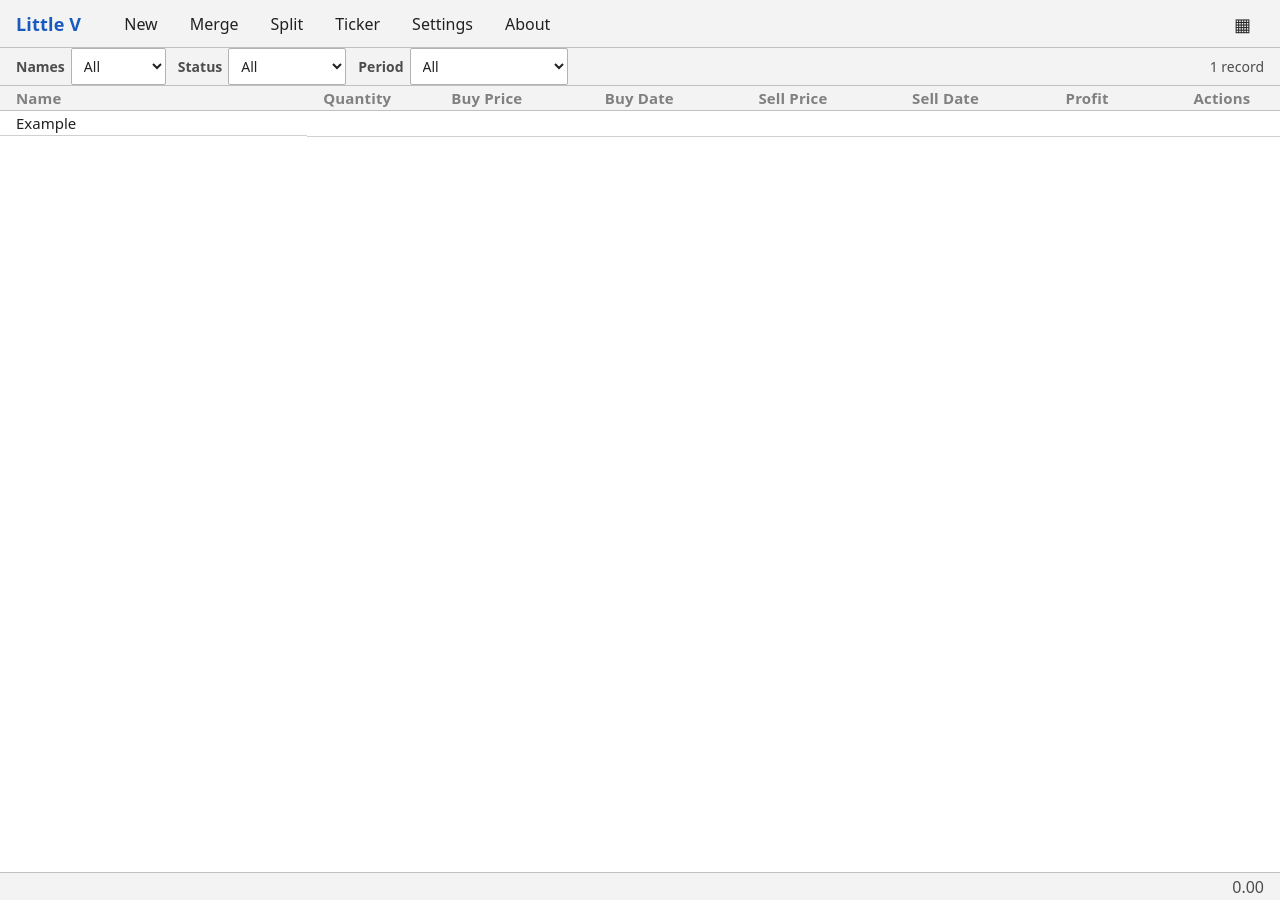
Scenario: App › omits ETF and LOF from displayed names and shows full name, code, and quote on hover
Expected: the text "Example ETF" is not shown
Hover over the text with class "stock-name" at {"x": 46, "y": 123}, box [16, 113, 76, 133]
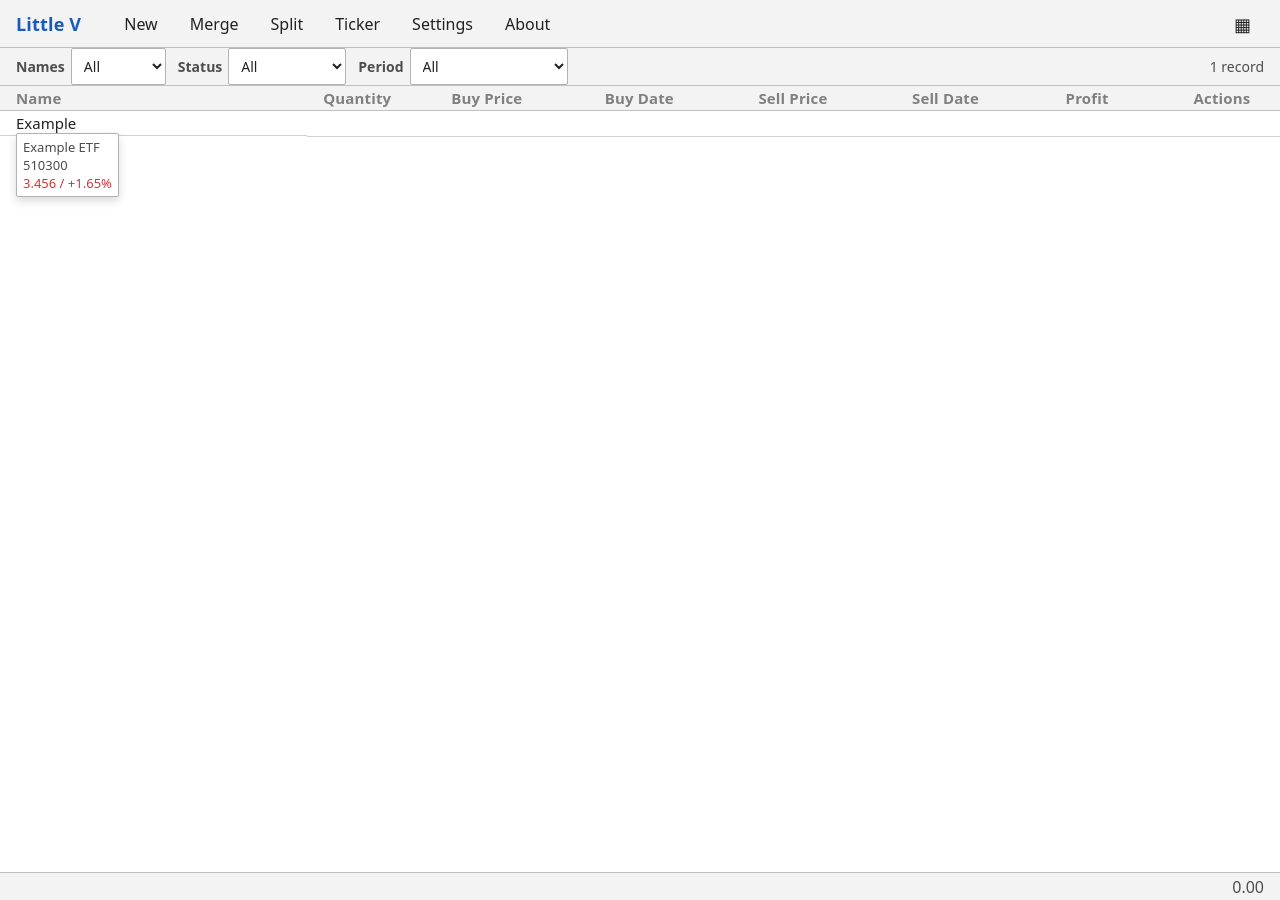
Now the text "Example ETF" is shown, box [23, 138, 112, 156]
Now the text "510300" is shown, box [23, 156, 68, 174]
